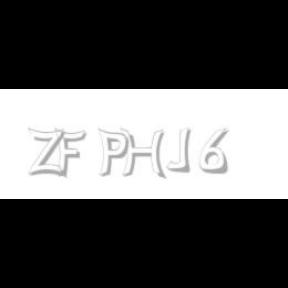6: (200, 128, 228, 176)
F: (54, 128, 86, 178)
H: (120, 128, 166, 180)
J: (166, 128, 190, 172)
P: (97, 128, 129, 178)
Z: (29, 128, 66, 178)
